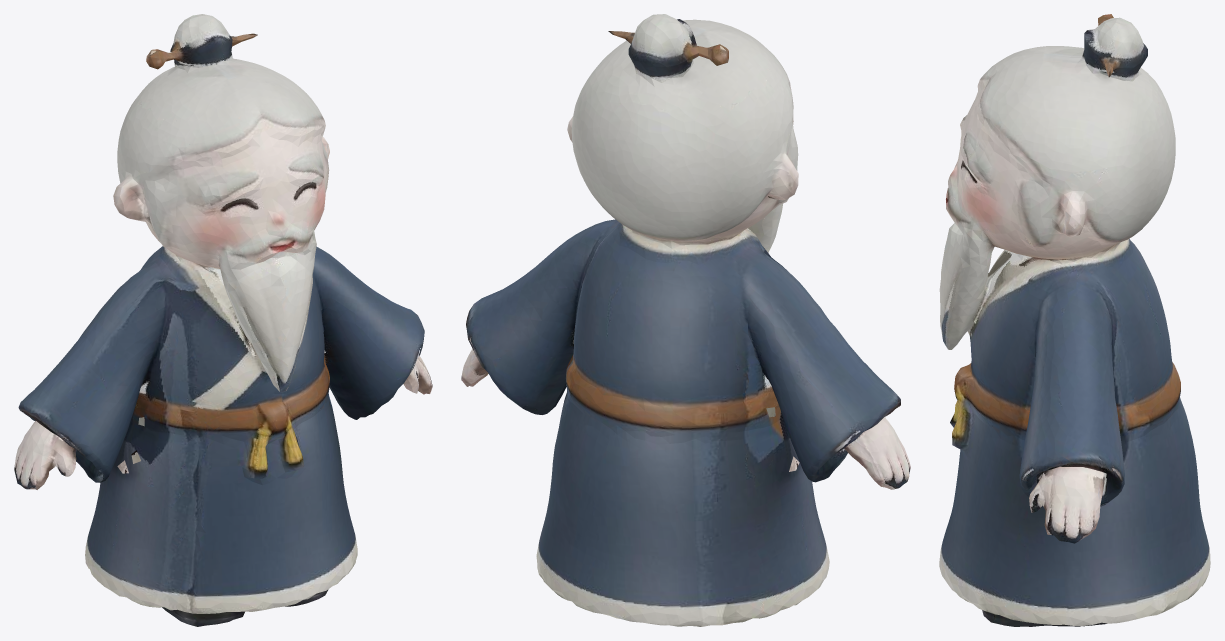
The model's file is su-phu.glb.
3 views of the same model, side by side, from view 1: azimuth 30°, elevation 25°; view 2: azimuth 150°, elevation 25°; view 3: azimuth 270°, elevation 25° (orthographic). The views are drawn at different scales.
Parts seen in each view (by area): view 1: world; view 2: world; view 3: world.
Boxes of the visible parts, x1,y1,x2,y2 form: world: (14, 14, 432, 626); world: (461, 14, 910, 626); world: (939, 14, 1210, 626).
Size of the model in its own units: 1.55 by 2 by 0.8584.
1 material, 1 textured.
